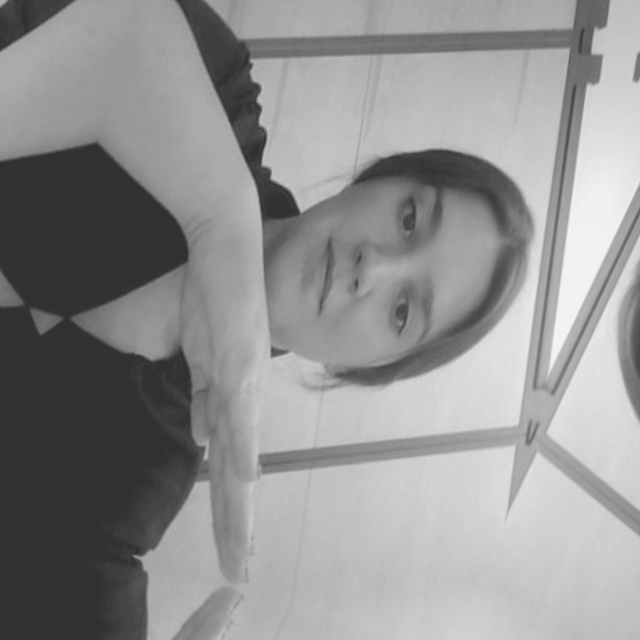Paper: (87, 173, 356, 590)
